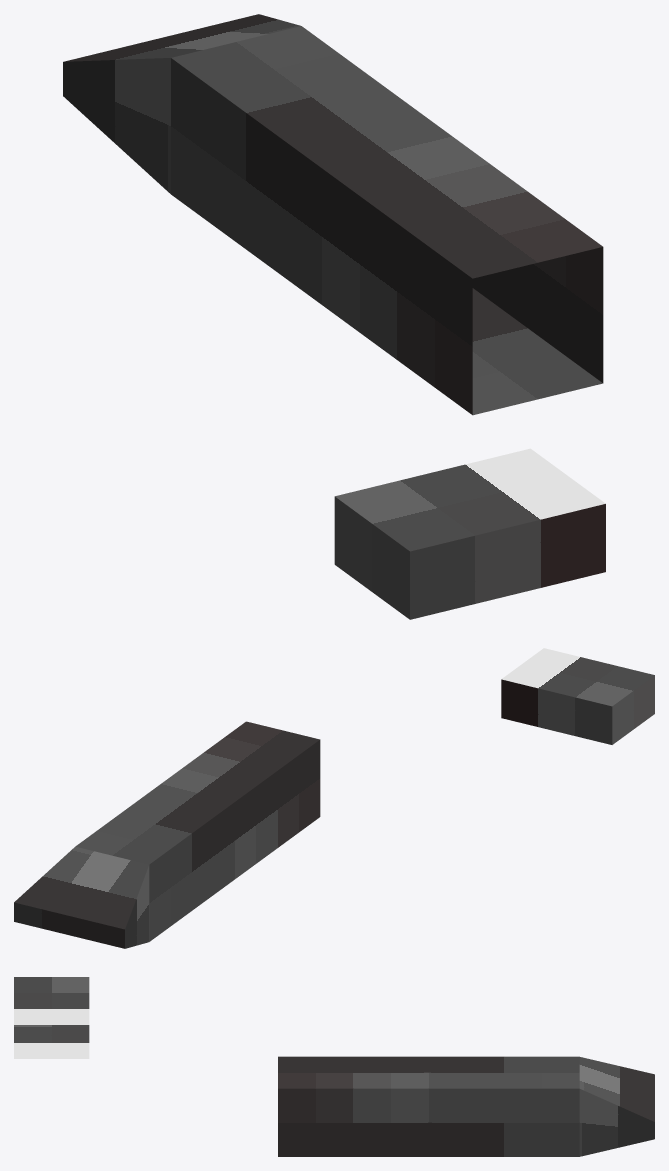
File: rock_drill_rod.obj
3 renders of one model, top to bottom at view 1: azimuth 30°, elevation 25°; view 2: azimuth 150°, elevation 25°; view 3: azimuth 270°, elevation 25°, orthographic. The views are drawn at different scales.
Parts seen in each view (by area): view 1: cube; view 2: cube; view 3: cube.
Boxes of the visible parts, x1=… form: cube: x1=63, y1=14, x2=605, y2=619; cube: x1=14, y1=648, x2=654, y2=948; cube: x1=14, y1=977, x2=654, y2=1156.
Size of the model in its own units: 0.4688 by 0.125 by 1.06.
